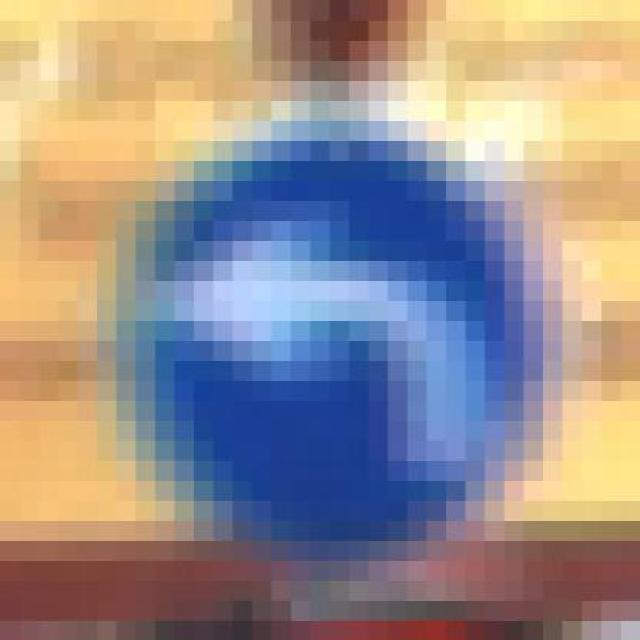Turn left ahead: (116, 120, 544, 540)
